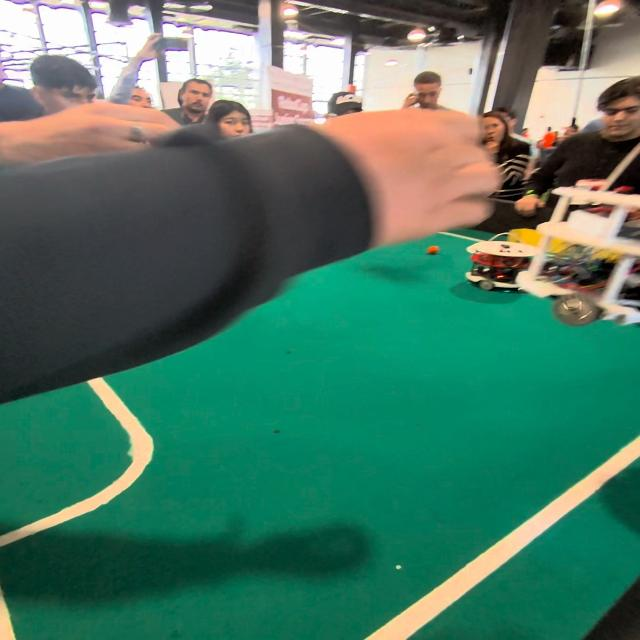Robot: (544, 175, 640, 328), (465, 226, 532, 293)
pelota: (426, 244, 439, 255)
